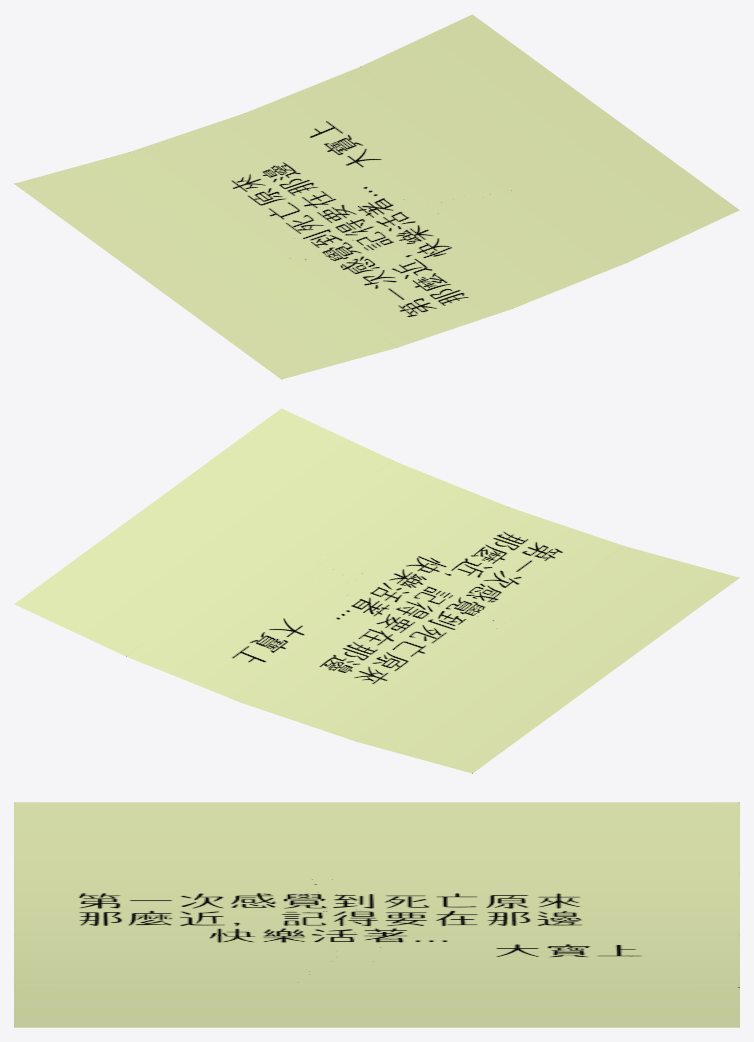
Rendered from 便條紙第2個內容.fbx.
The picture shows the model from 3 angles, top to bottom: view 1: azimuth 30°, elevation 25°; view 2: azimuth 150°, elevation 25°; view 3: azimuth 270°, elevation 25°; orthographic projection. The views are drawn at different scales.
Parts seen in each view (by area): view 1: Plane012; view 2: Plane012; view 3: Plane012.
Part boxes in pixels (left/top/right/bottom): Plane012: left=14, top=14, right=739, bottom=379; Plane012: left=14, top=408, right=739, bottom=773; Plane012: left=14, top=802, right=739, bottom=1027.
Bounding box in the file's own units: 2.92 × 0.3504 × 2.95.
1 material, 1 textured.
